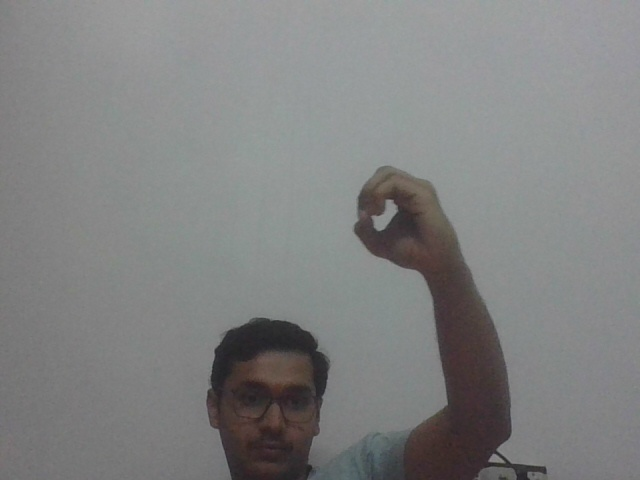O: (354, 160, 448, 276)
